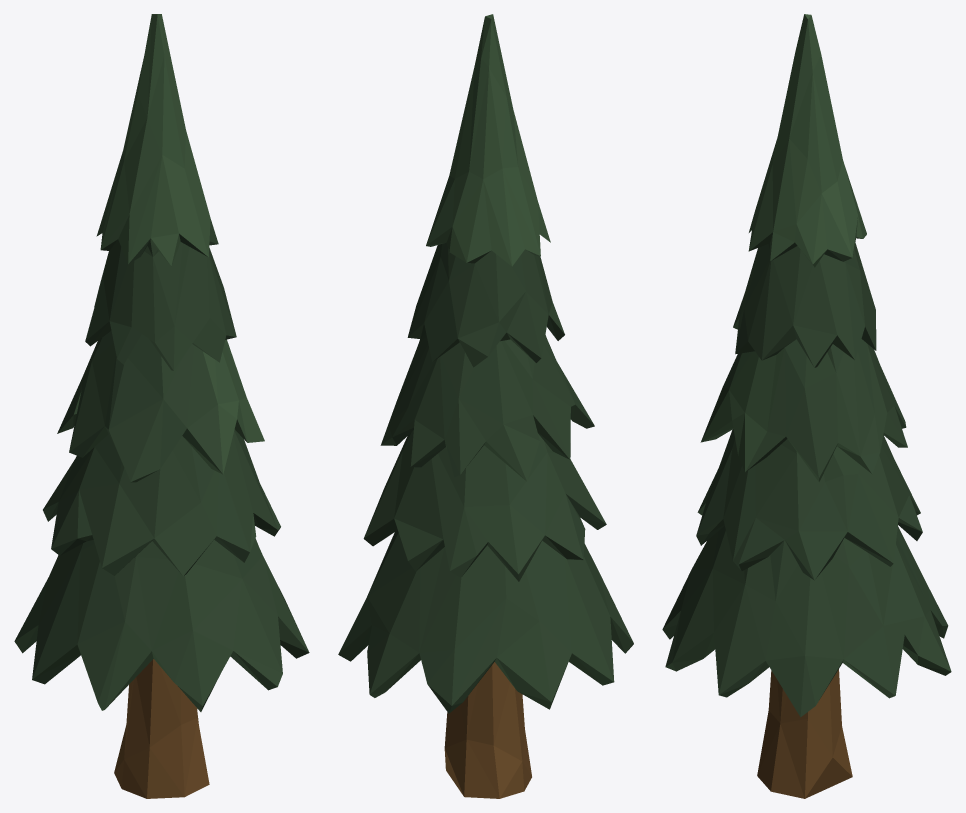
File: prop_fir.glb
The picture shows the model from 3 angles, left to right: view 1: azimuth 30°, elevation 25°; view 2: azimuth 150°, elevation 25°; view 3: azimuth 270°, elevation 25°; orthographic projection.
Parts seen in each view (by area): view 1: LeafCanopy, Trunk; view 2: LeafCanopy, Trunk; view 3: LeafCanopy, Trunk.
Boxes of the visible parts, x1=… form: LeafCanopy: x1=14, y1=14, x2=309, y2=711; Trunk: x1=114, y1=659, x2=209, y2=798; LeafCanopy: x1=338, y1=14, x2=633, y2=713; Trunk: x1=444, y1=662, x2=531, y2=798; LeafCanopy: x1=662, y1=14, x2=951, y2=717; Trunk: x1=757, y1=669, x2=852, y2=798.
Size of the model in its own units: 0.3472 by 1 by 0.3439.
